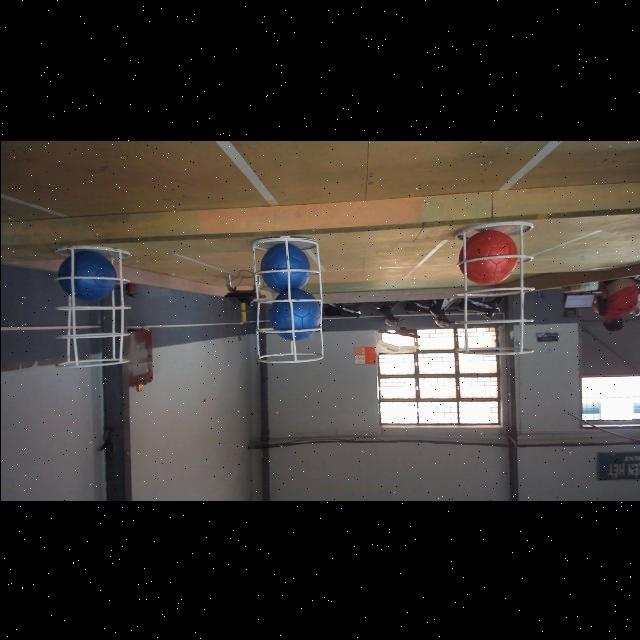B: (56, 250, 116, 300), (268, 288, 320, 340), (260, 242, 310, 292)
R: (457, 228, 517, 284)
